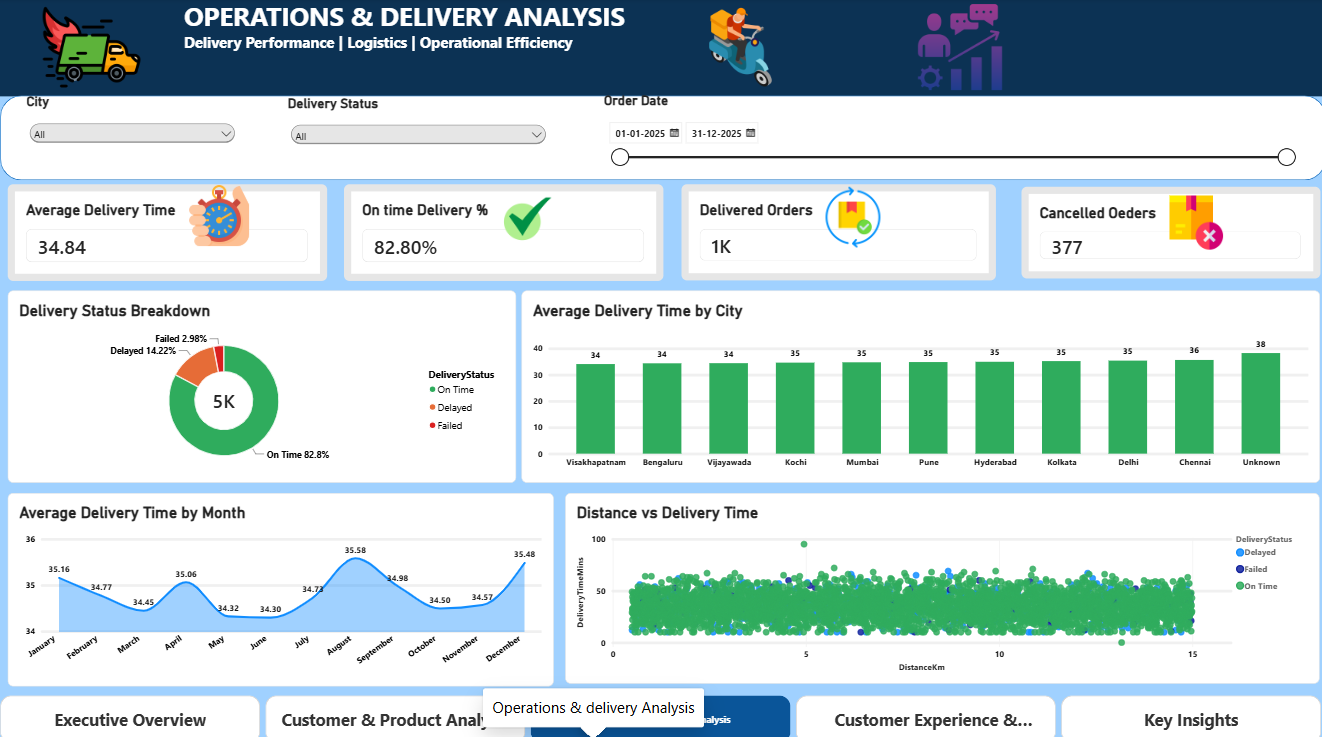

The page's visual inventory and layout, read from the dashboard file:
{"tool":"powerbi","page":{"name":"Operations & delivery Analysis","canvas":[1920,1080],"ordinal":2},"visuals":[{"type":"cardVisual","title":"Average Delivery Time ","fields":{"Data":["__Measures.Average Delivery Time"]},"box":[12,270,462,140],"z":0},{"type":"cardVisual","title":"On time Delivery %","fields":{"Data":["__Measures.On-Time Delivery %"]},"box":[500,270,462,140],"z":1000},{"type":"cardVisual","title":"Delivered Orders ","fields":{"Data":["__Measures.Delivered Orders"]},"box":[988,270,455.5,138.9],"z":2000},{"type":"donutChart","title":"Delivery Status Breakdown","fields":{"Category":["Delivery.DeliveryStatus"],"Y":["CountNonNull(Delivery.DeliveryID)"]},"box":[12,424,736,278],"z":3000},{"type":"clusteredColumnChart","title":"Average Delivery Time by City","fields":{"Category":["Customers.City"],"Y":["__Measures.Average Delivery Time"]},"box":[756,424,1156,278],"z":4000},{"type":"scatterChart","title":"Distance vs Delivery Time","fields":{"Series":["Delivery.DeliveryStatus"],"X":["Delivery.DistanceKm"],"Y":["Delivery.DeliveryTimeMins"]},"box":[820,716,1092,276],"z":5000},{"type":"stackedAreaChart","title":"Average Delivery Time by Month","fields":{"Category":["Orders.OrderDate.Variation.Date Hierarchy.Month"],"Y":["Avg(Delivery.DeliveryTimeMins)"]},"box":[12,716,790,280],"z":6000},{"type":"textbox","box":[0,0,1918,142],"z":7000},{"type":"textbox","box":[268,0,662,182],"z":8000},{"type":"image","box":[0,0,268,142],"z":9000},{"type":"image","box":[930,0,286,142],"z":10000},{"type":"image","box":[1216,0,350,142],"z":11000},{"type":"shape","box":[2,142,1918.7,122.7],"z":12000},{"type":"slicer","title":"City","fields":{"Values":["Customers.City"]},"box":[40,140,306.9,122.7],"z":13000},{"type":"slicer","title":"Delivery Status","fields":{"Values":["Delivery.DeliveryStatus"]},"box":[418,141.2,378.2,121.2],"z":14000},{"type":"slicer","title":"Order Date ","fields":{"Values":["Orders.OrderDate"]},"box":[876,138,1004.6,122.7],"z":15000},{"type":"cardVisual","title":"Cancelled Oeders","fields":{"Data":["__Measures.Cancelled Orders"]},"box":[1480,274,432.8,132.4],"z":16000},{"type":"image","box":[258,268,120,96],"z":17000},{"type":"image","box":[702,280,126,78],"z":18000},{"type":"image","box":[1184,274,106,88],"z":19000},{"type":"image","box":[1672,286,122,78],"z":20000},{"type":"pageNavigator","box":[2,1010,1916,70],"z":21000}]}

Visuals, with their boxes in screenshot pixels (x1, y1, x2, y2), scaled from the page's 1920x1080 canvas onto the 1322x737 screenshot:
"Average Delivery Time " cardVisual: box=[8, 184, 326, 280]
"On time Delivery %" cardVisual: box=[344, 184, 662, 280]
"Delivered Orders " cardVisual: box=[680, 184, 994, 279]
"Delivery Status Breakdown" donutChart: box=[8, 289, 515, 479]
"Average Delivery Time by City" clusteredColumnChart: box=[521, 289, 1316, 479]
"Distance vs Delivery Time" scatterChart: box=[565, 489, 1316, 677]
"Average Delivery Time by Month" stackedAreaChart: box=[8, 489, 552, 680]
textbox: box=[0, 0, 1321, 97]
textbox: box=[185, 0, 640, 124]
image: box=[0, 0, 185, 97]
image: box=[640, 0, 837, 97]
image: box=[837, 0, 1078, 97]
shape: box=[1, 97, 1321, 181]
"City" slicer: box=[28, 96, 239, 179]
"Delivery Status" slicer: box=[288, 96, 548, 179]
"Order Date " slicer: box=[603, 94, 1295, 178]
"Cancelled Oeders" cardVisual: box=[1019, 187, 1317, 277]
image: box=[178, 183, 260, 248]
image: box=[483, 191, 570, 244]
image: box=[815, 187, 888, 247]
image: box=[1151, 195, 1235, 248]
pageNavigator: box=[1, 689, 1321, 736]
